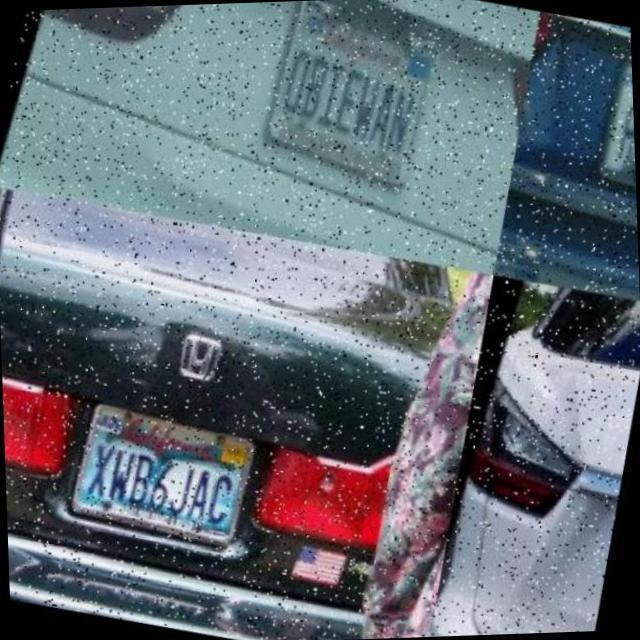License Plate: (254, 0, 464, 196), (64, 388, 268, 552), (592, 45, 636, 198)
